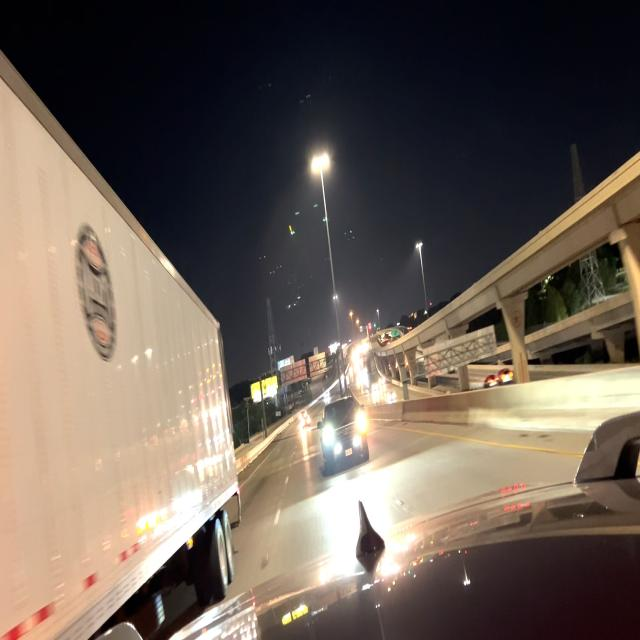back-of-sign: (422, 325, 499, 379), (280, 347, 327, 389)
